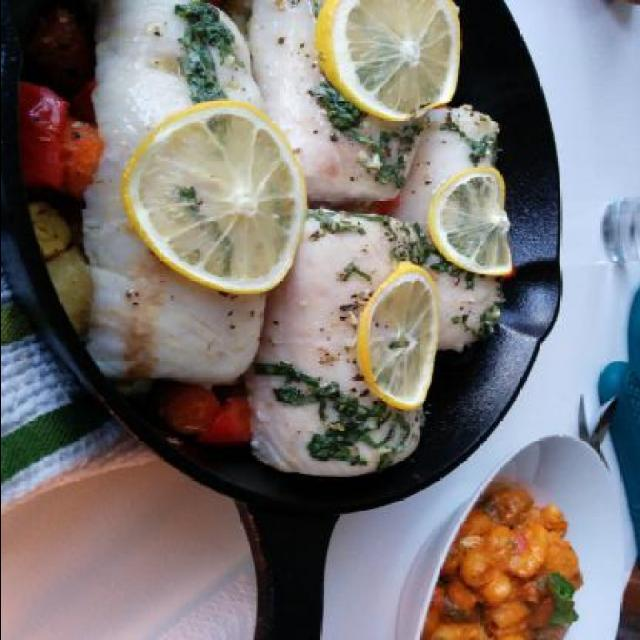Lemon: (112, 90, 314, 298), (318, 3, 464, 117), (358, 263, 434, 411), (428, 167, 508, 276)
